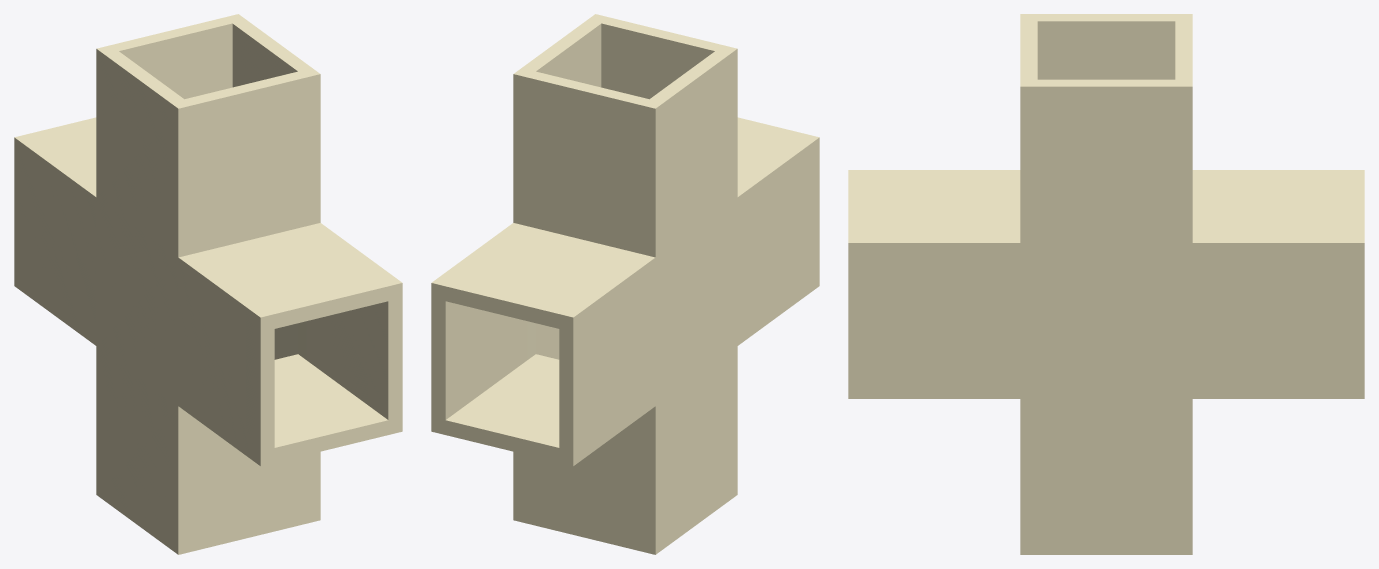
Rendered from tubing part 4.fbx.
The picture shows the model from 3 angles, left to right: view 1: azimuth 30°, elevation 25°; view 2: azimuth 150°, elevation 25°; view 3: azimuth 270°, elevation 25°; orthographic projection. The views are drawn at different scales.
Visible parts, largest first — view 1: Cube.001; view 2: Cube.001; view 3: Cube.001.
Part boxes in pixels (box(x1,y1,x2,y2)): Cube.001: box(14, 14, 402, 554); Cube.001: box(431, 14, 819, 554); Cube.001: box(848, 14, 1364, 554).
Size of the model in its own units: 200 by 600 by 600.
